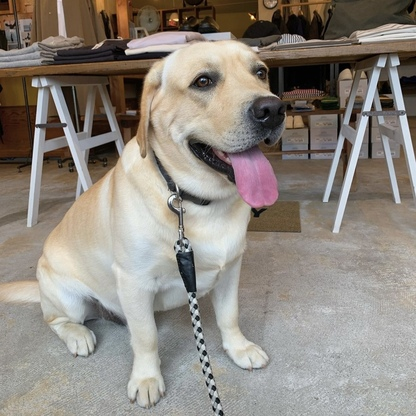labrado: (32, 35, 288, 413)
